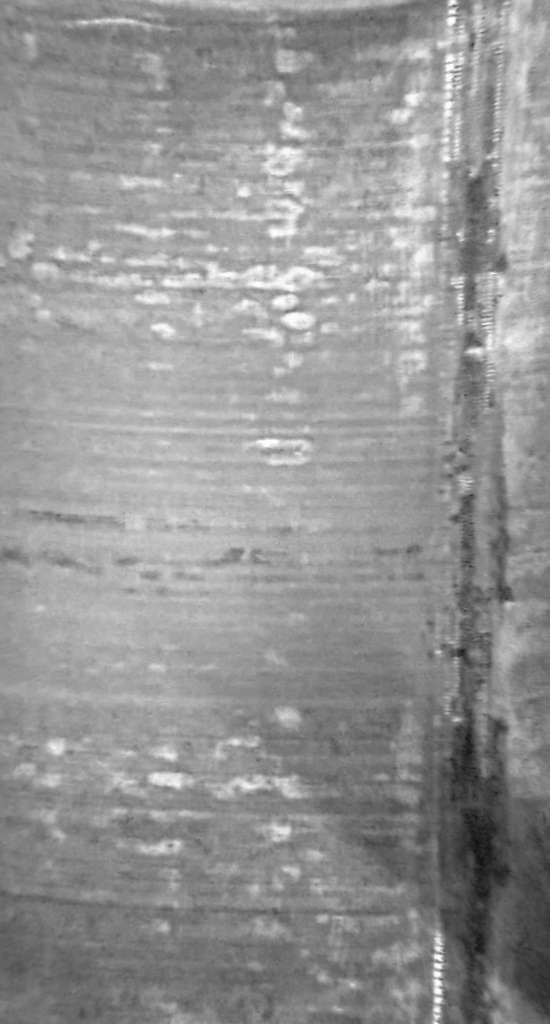splice: (431, 1, 514, 1024)
